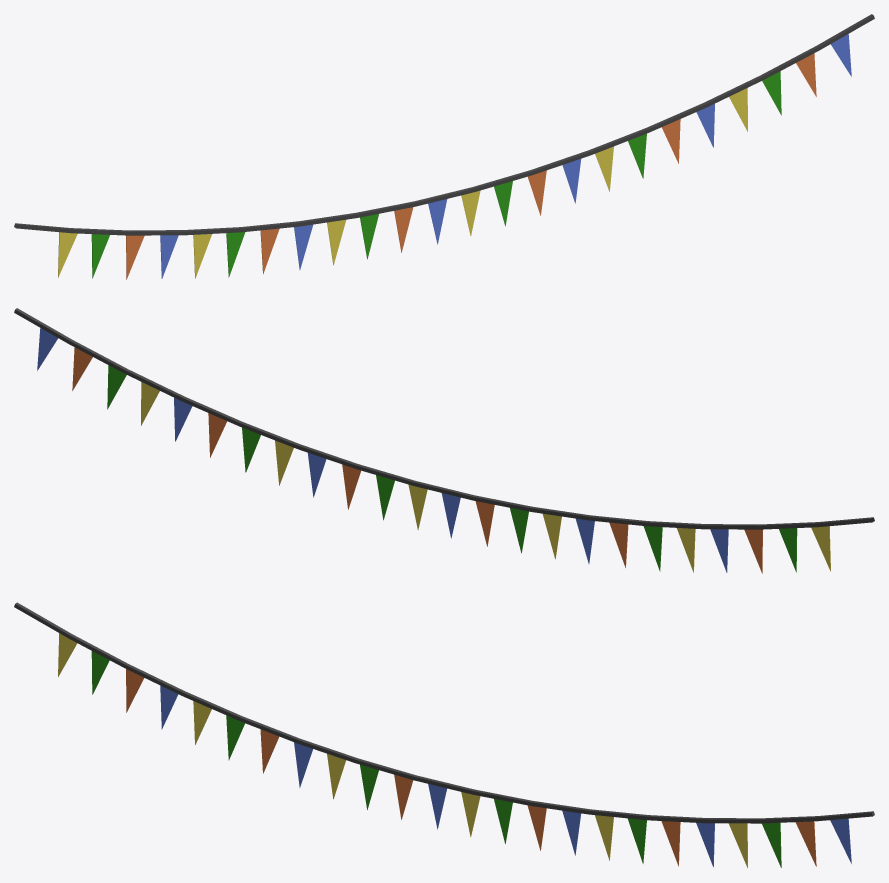
File: stringOfPennants.fbx
3 views of the same model, one above another, from view 1: azimuth 30°, elevation 25°; view 2: azimuth 150°, elevation 25°; view 3: azimuth 330°, elevation 25° (orthographic).
Parts seen in each view (by area): view 1: String of Pennants; view 2: String of Pennants; view 3: String of Pennants.
Boxes of the visible parts, x1,y1,x2,y2 form: String of Pennants: (14,14,874,279); String of Pennants: (14,308,874,573); String of Pennants: (14,602,874,868).
Bounding box in the file's own units: 1047 × 4.28 × 144.
